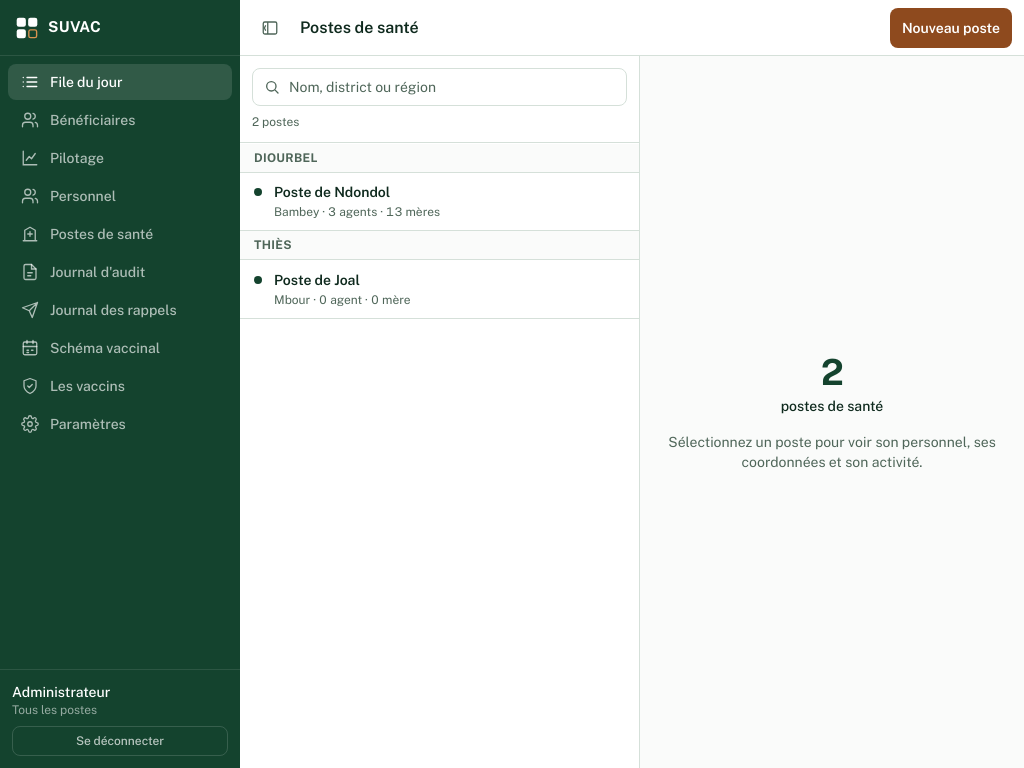
Scenario: Postes › ouvre la fiche du poste choisi
Click the text "Poste de Ndondol" at (332, 192), box [274,182,390,202]
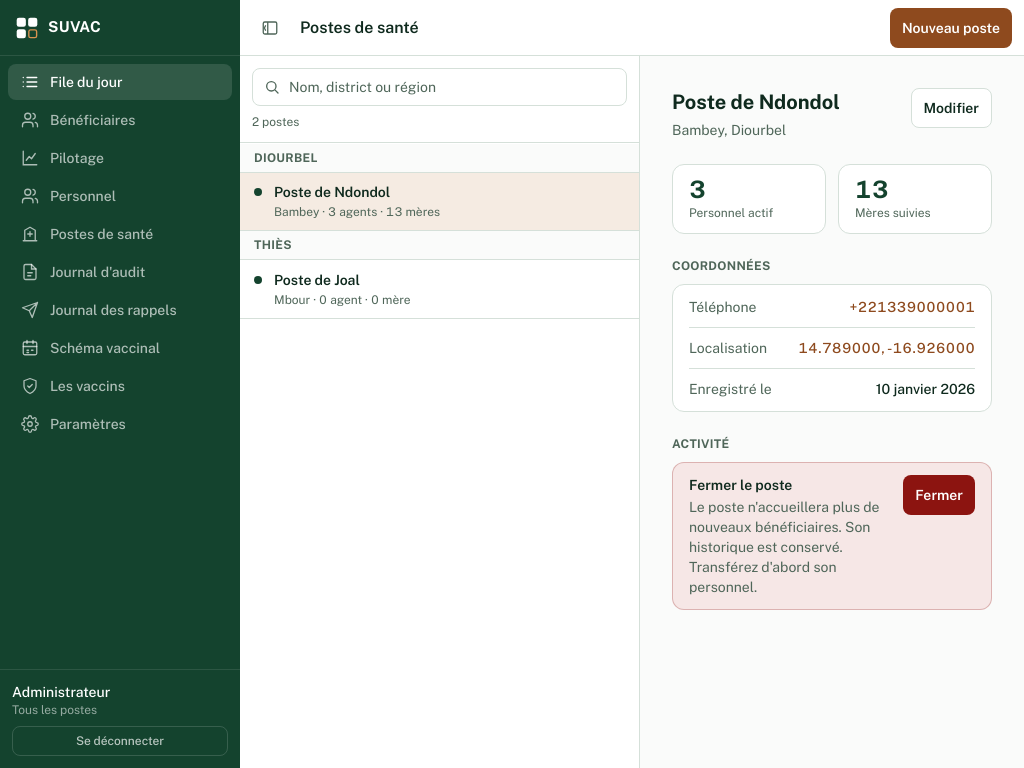
Check: the heading "Poste de Ndondol" is shown, box [672,88,840,116]
Check: the text "Personnel actif" is shown, box [689,206,773,220]
